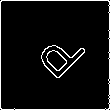P_SW: (23, 23, 87, 87)
